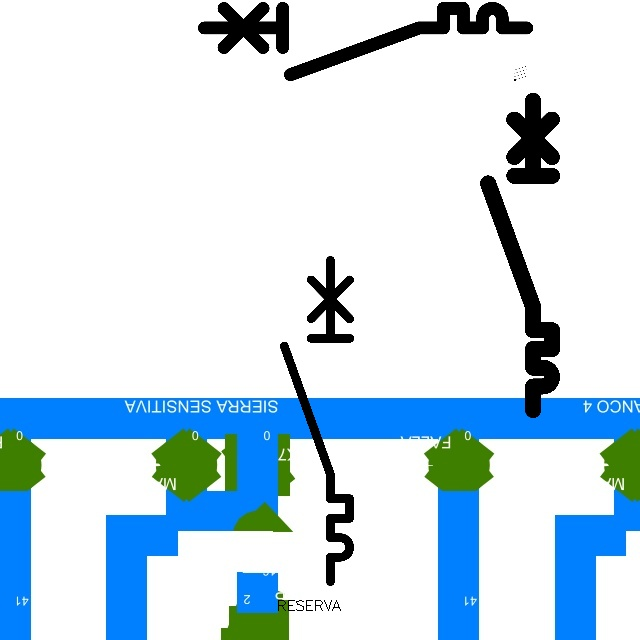interruptor_termomagnetico: (196, 0, 535, 83), (276, 252, 358, 590), (480, 92, 560, 418)
